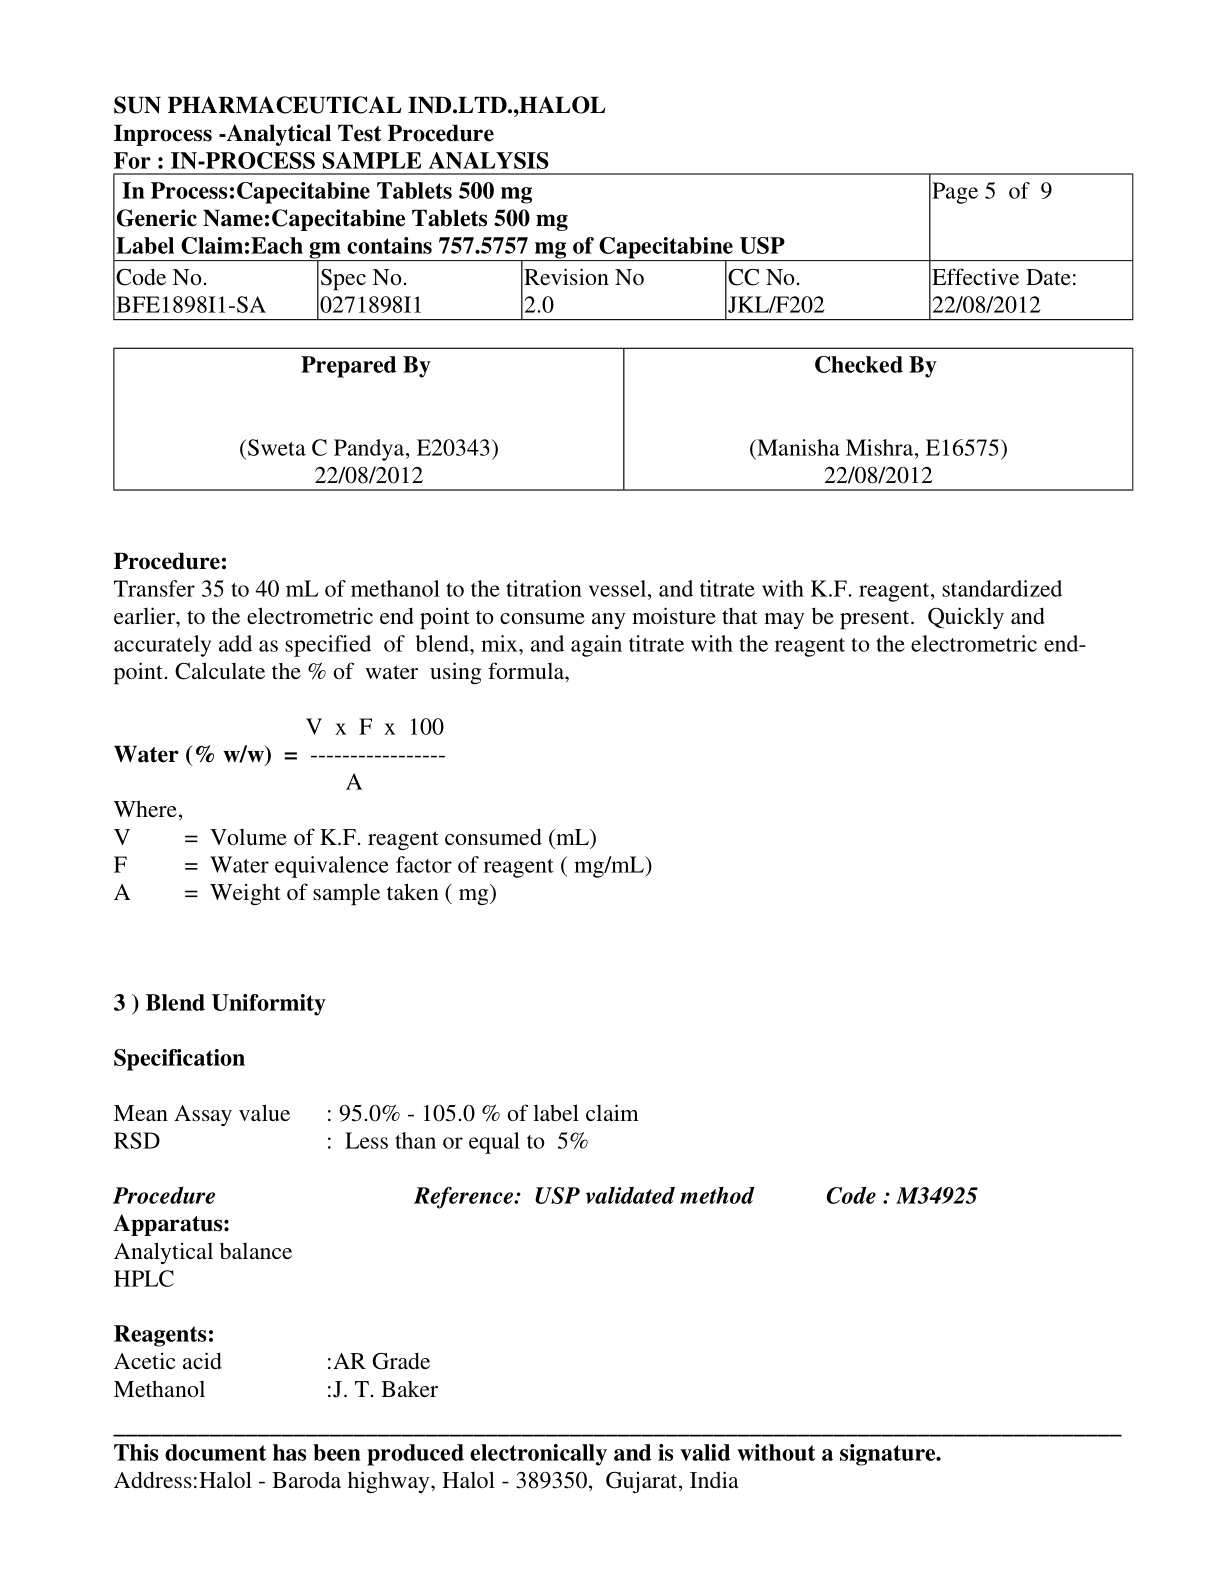full_lined: (111, 346, 1135, 492)
merged_cells: (112, 172, 1134, 320)
nolines: (112, 825, 653, 906), (111, 1101, 649, 1153), (113, 1350, 440, 1398)
